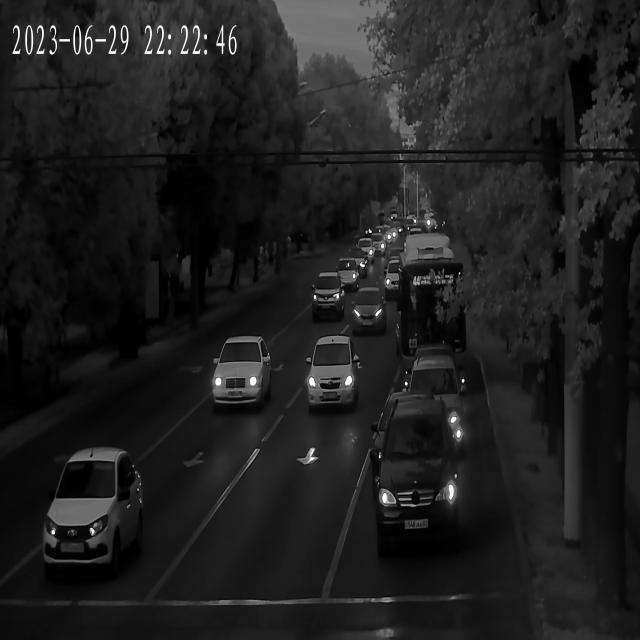Bus: (402, 226, 466, 370)
Car: (44, 445, 147, 569), (368, 397, 462, 530), (391, 373, 464, 465), (198, 335, 272, 414), (393, 360, 464, 427), (305, 336, 361, 413), (406, 343, 462, 388), (311, 273, 354, 320), (345, 288, 390, 332), (384, 260, 415, 298), (329, 259, 362, 290), (335, 255, 366, 280), (356, 241, 378, 260)
